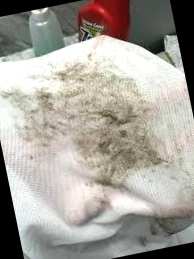earth: (59, 60, 165, 182)
